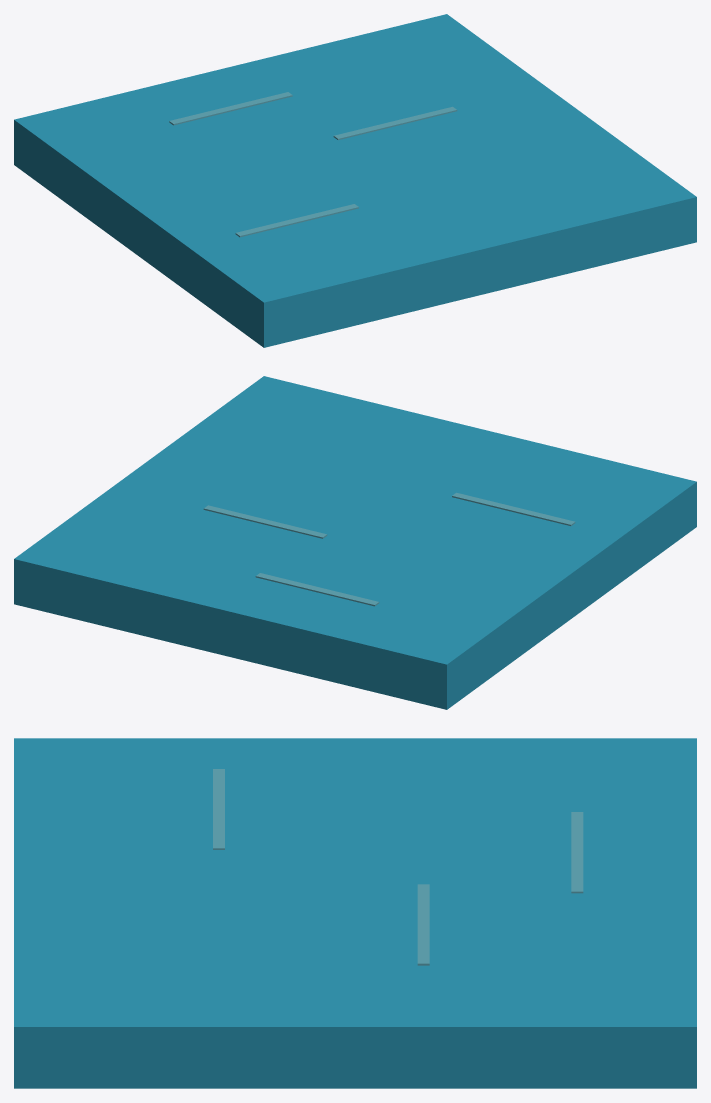
The model's file is low-poly-nature-water-tile.obj.
3 renders of one model, top to bottom at view 1: azimuth 30°, elevation 25°; view 2: azimuth 150°, elevation 25°; view 3: azimuth 270°, elevation 25°, orthographic. The views are drawn at different scales.
Visible parts, largest first — view 1: Water_volume_001_Kit_water, Stylized_water_ripple_004_Kit_glass, Stylized_water_ripple_002_Kit_glass, Stylized_water_ripple_003_Kit_glass; view 2: Water_volume_001_Kit_water, Stylized_water_ripple_003_Kit_glass, Stylized_water_ripple_004_Kit_glass, Stylized_water_ripple_002_Kit_glass; view 3: Water_volume_001_Kit_water, Stylized_water_ripple_003_Kit_glass, Stylized_water_ripple_004_Kit_glass, Stylized_water_ripple_002_Kit_glass.
Boxes of the visible parts, bbox=[...] form: Water_volume_001_Kit_water: bbox=[14, 14, 696, 347]; Stylized_water_ripple_004_Kit_glass: bbox=[169, 92, 292, 125]; Stylized_water_ripple_002_Kit_glass: bbox=[235, 204, 358, 237]; Stylized_water_ripple_003_Kit_glass: bbox=[333, 106, 457, 140]; Water_volume_001_Kit_water: bbox=[14, 376, 696, 709]; Stylized_water_ripple_003_Kit_glass: bbox=[203, 505, 327, 538]; Stylized_water_ripple_004_Kit_glass: bbox=[255, 573, 379, 606]; Stylized_water_ripple_002_Kit_glass: bbox=[452, 492, 575, 525]; Water_volume_001_Kit_water: bbox=[14, 738, 696, 1088]; Stylized_water_ripple_003_Kit_glass: bbox=[417, 884, 429, 965]; Stylized_water_ripple_004_Kit_glass: bbox=[571, 812, 583, 893]; Stylized_water_ripple_002_Kit_glass: bbox=[213, 769, 224, 849].
Size of the model in its own units: 2 by 0.206 by 2.
